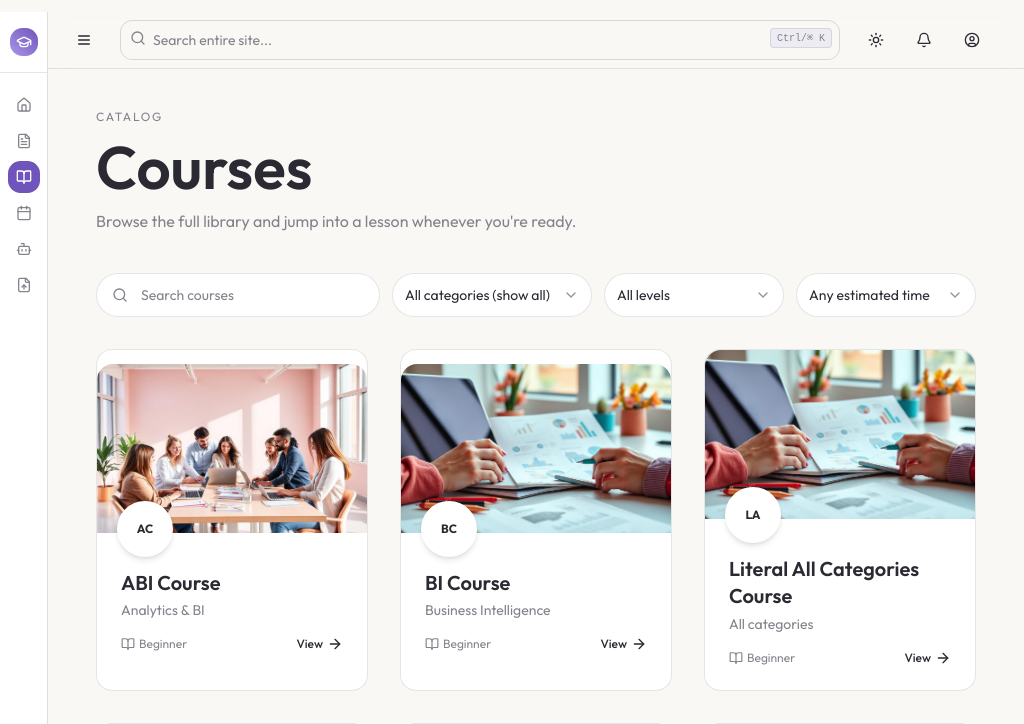
category menu names are unique across kinds › without a group entry (/courses): the All sentinel and the stored "All categories" are told apart; non-colliding names stay plain
Step 1. Click the dropdown named "Category" → (492, 295), box [392,273,592,317]
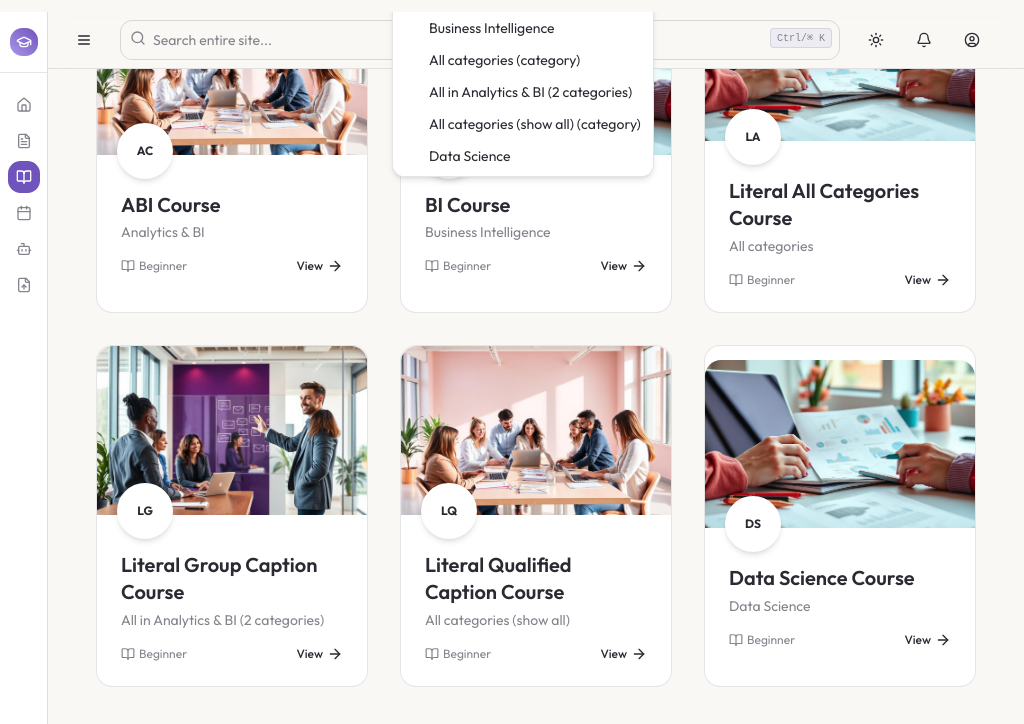
Check: the number of options "Business Intelligence" is 1, box [429,19,555,37]
Check: the text "All categories (category)" is shown, box [429,50,580,70]
Check: the number of options "All categories (category)" is 1, box [429,51,580,69]
